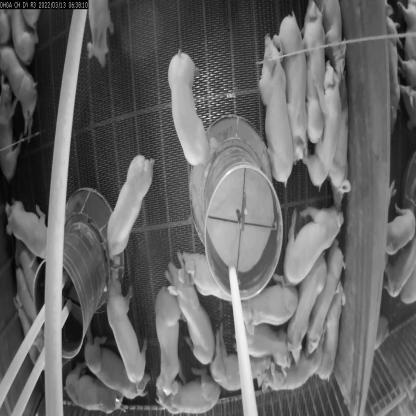Pig: (164, 46, 218, 170), (257, 36, 296, 186), (165, 258, 217, 366), (103, 264, 151, 381), (287, 247, 332, 367), (276, 6, 309, 166), (285, 198, 347, 282), (106, 150, 156, 254), (80, 334, 150, 402), (302, 4, 329, 152), (1, 36, 40, 134), (4, 191, 57, 259), (154, 288, 186, 398), (315, 59, 342, 182), (155, 370, 220, 414), (243, 282, 299, 332), (321, 279, 345, 381), (87, 0, 115, 73), (384, 198, 416, 254)
